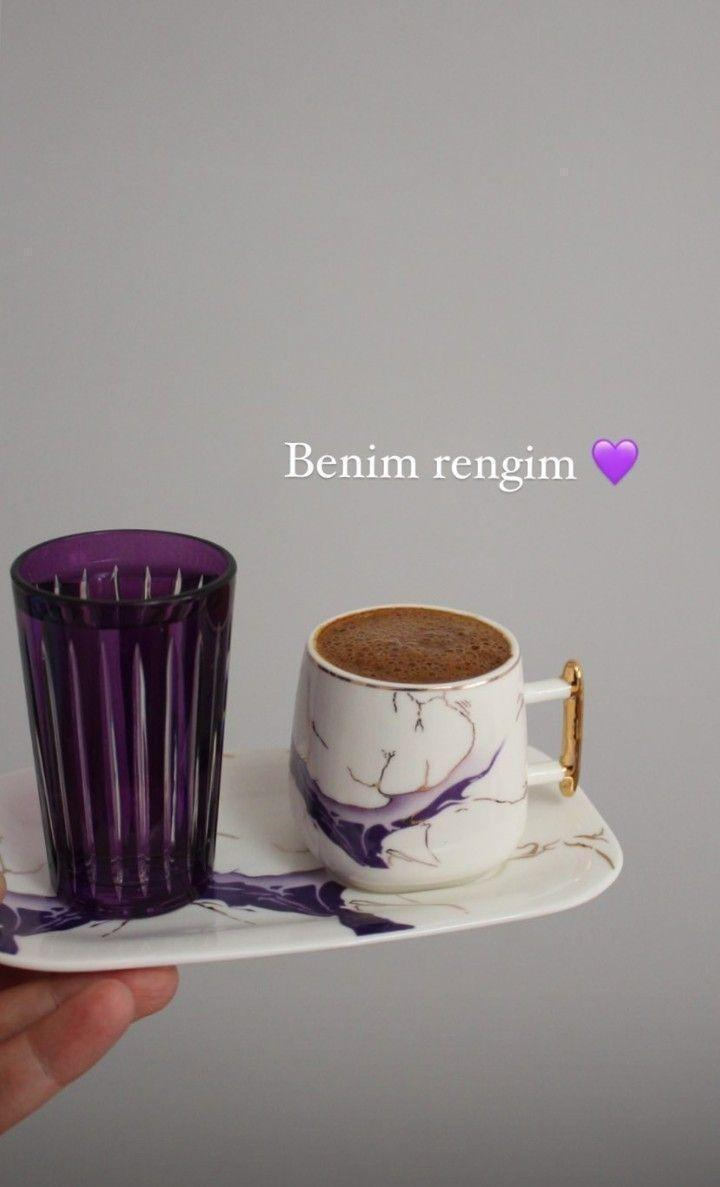cup-handle: (285, 601, 589, 895)
glass-normal: (9, 525, 241, 918)
